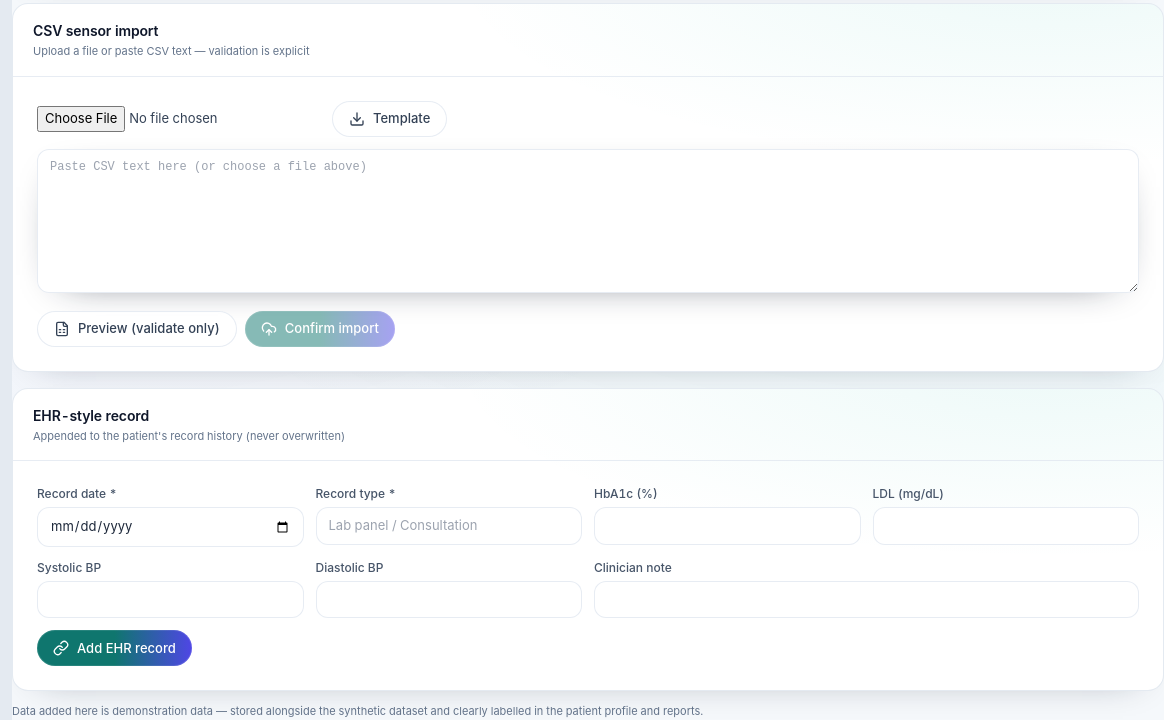
Test case: DataEntry (manual + CSV import) › appends an EHR-style record
The width and height of the screenshot is (1164, 720).
(page scrolled)
Type "2026-02-10" into the date field labelled "Record date *" at (170, 527), box 37,507 -> 304,547
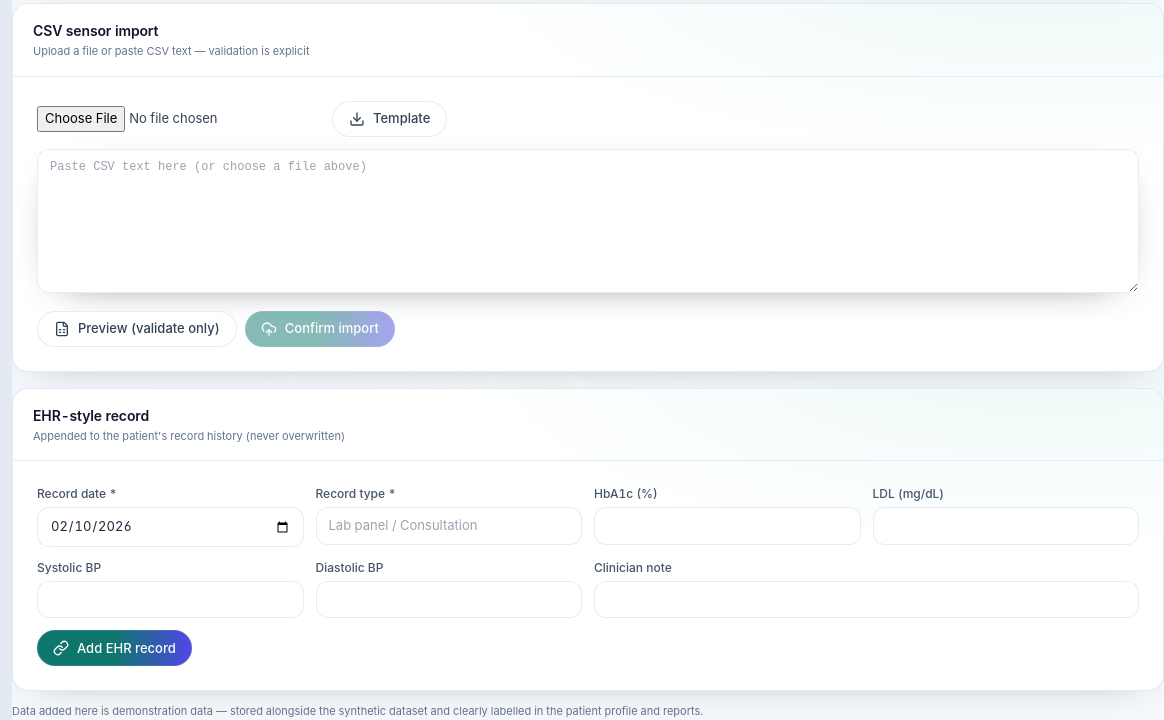
Type "Lab panel" into the field labelled "Record type *" at (449, 526), box 316,507 -> 582,545
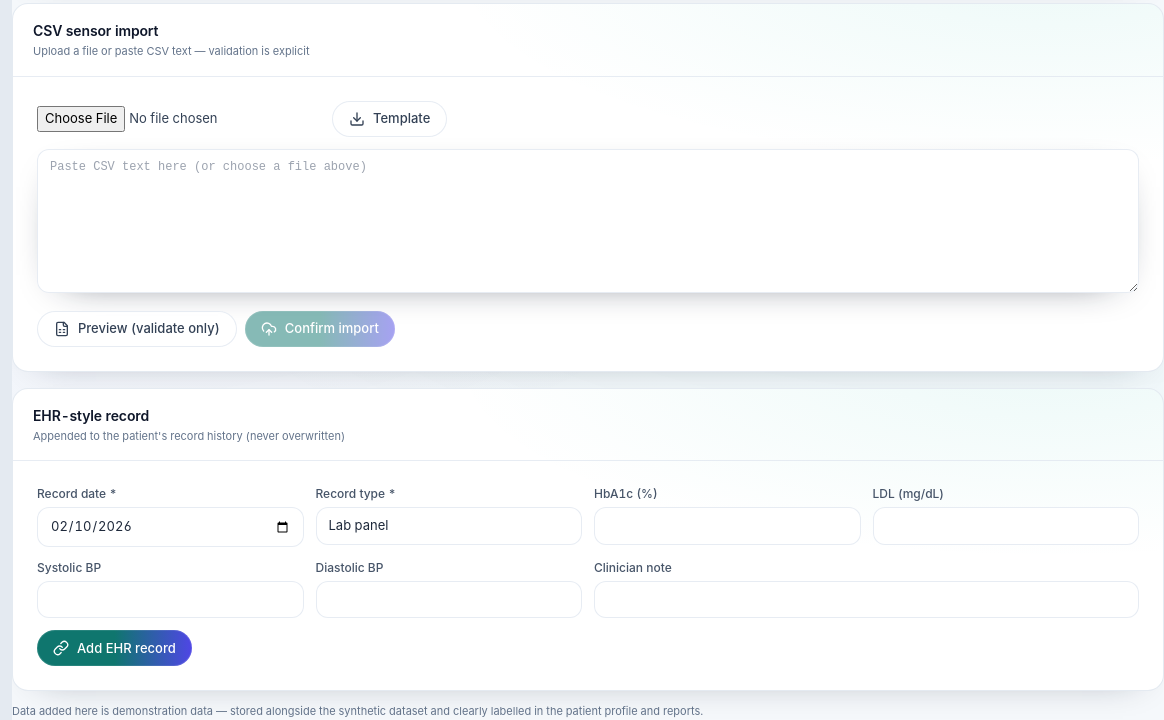
Click the button "Add EHR record" at (114, 648), box 37,630 -> 192,666
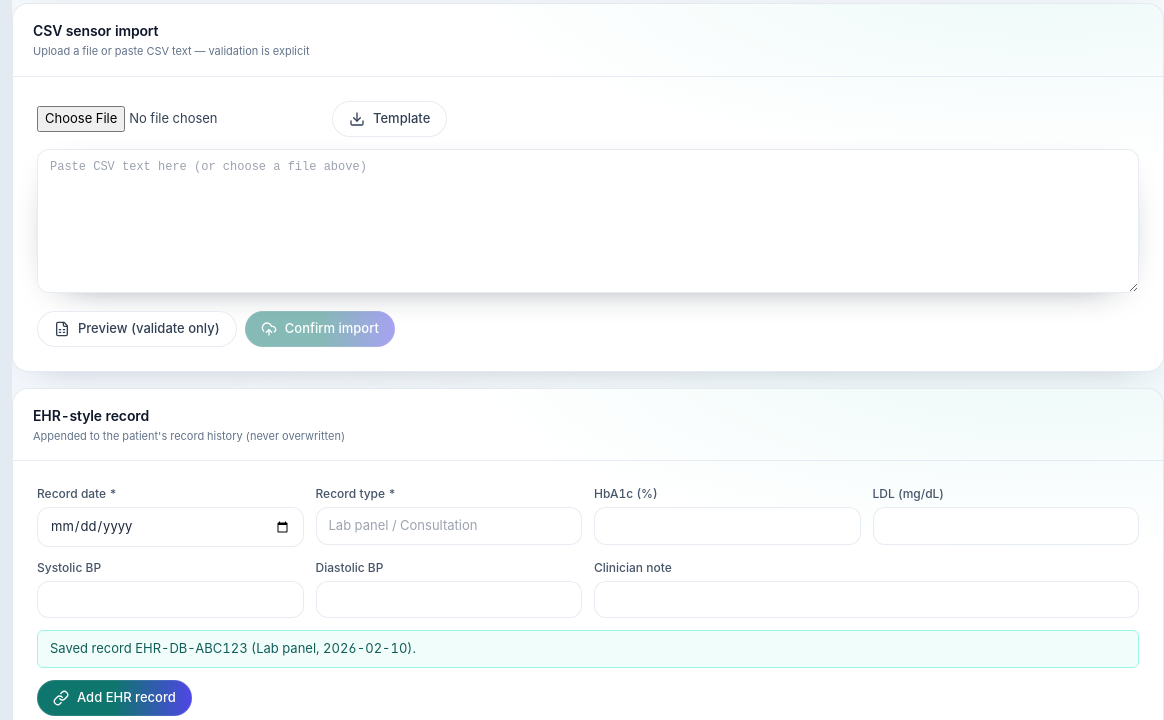
Now the text "Saved record EHR-DB-ABC123 (Lab panel, 2026-02-10)." is shown, box 37,630 -> 1139,668
